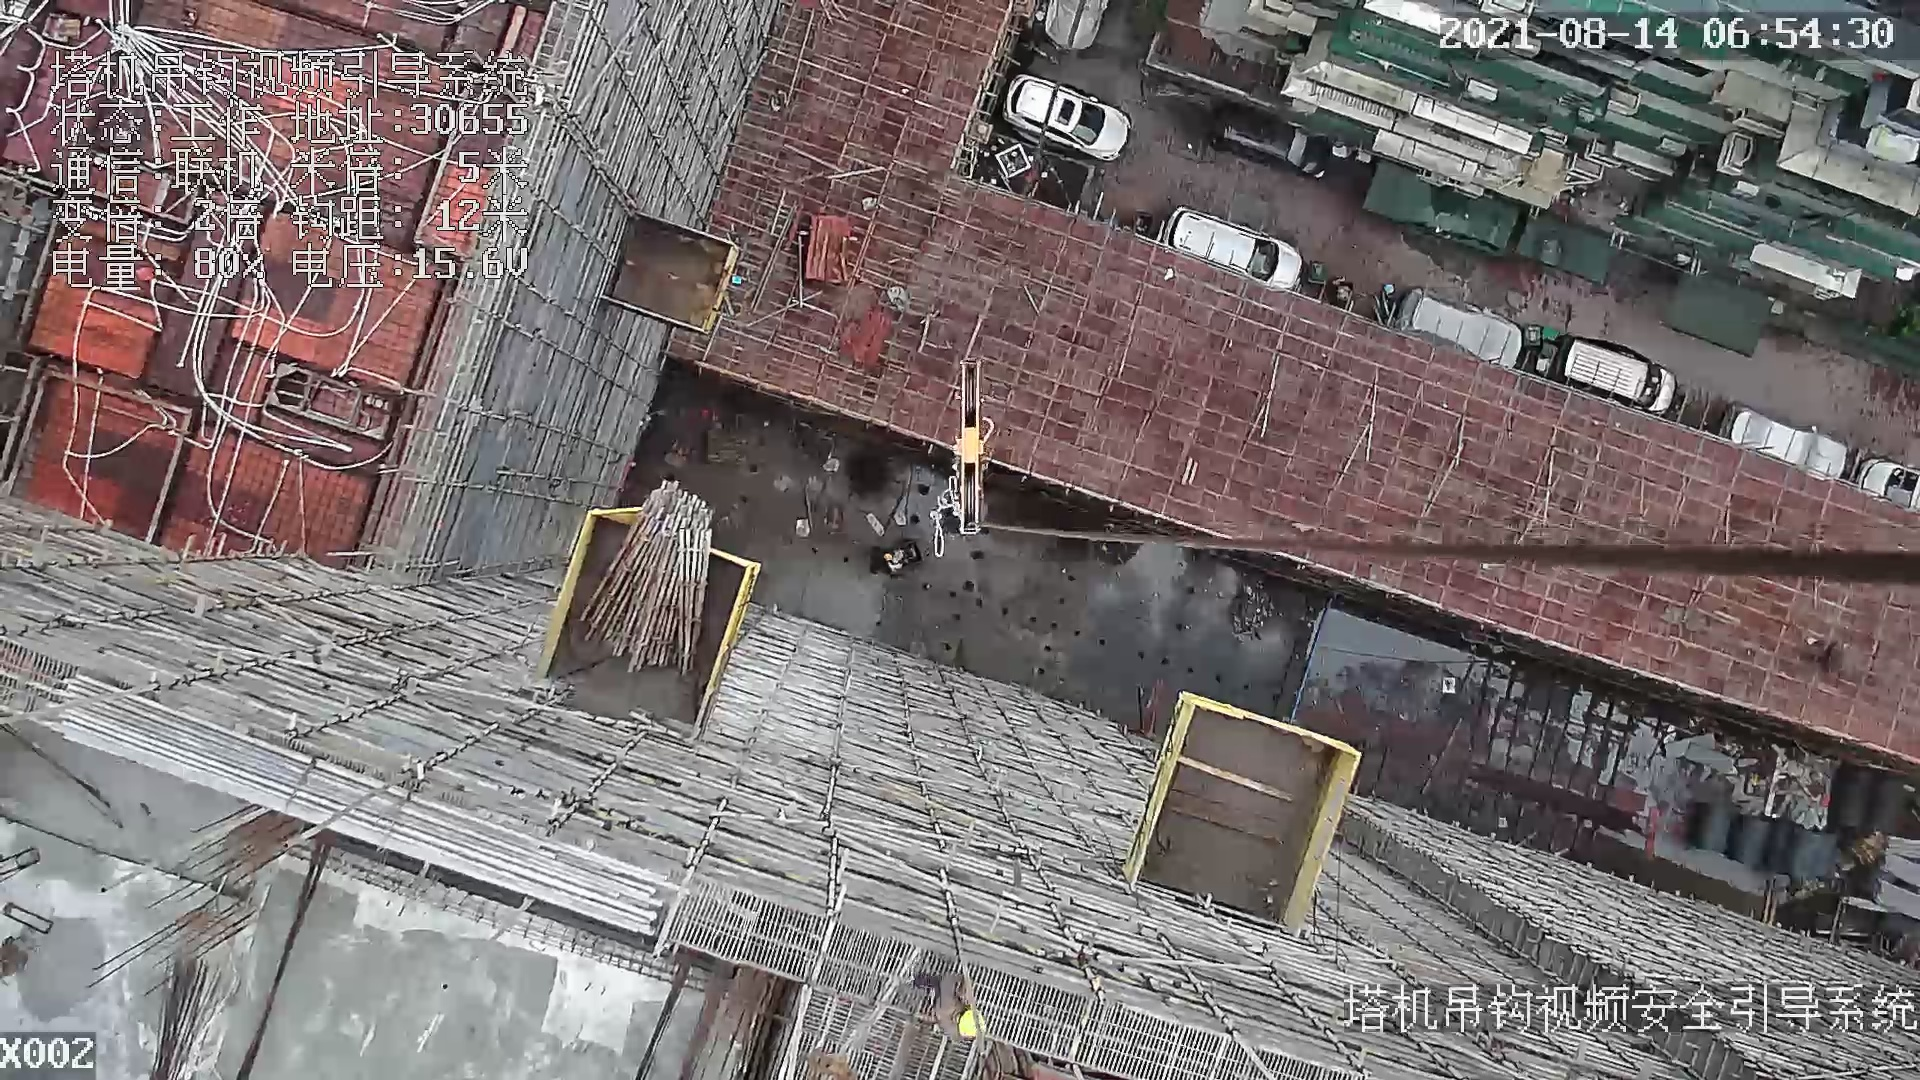helmet: (959, 1009, 978, 1038)
hook: (945, 354, 995, 546)
person: (899, 964, 992, 1054)
rebar: (44, 680, 665, 938)
scaffold: (581, 477, 714, 680)
